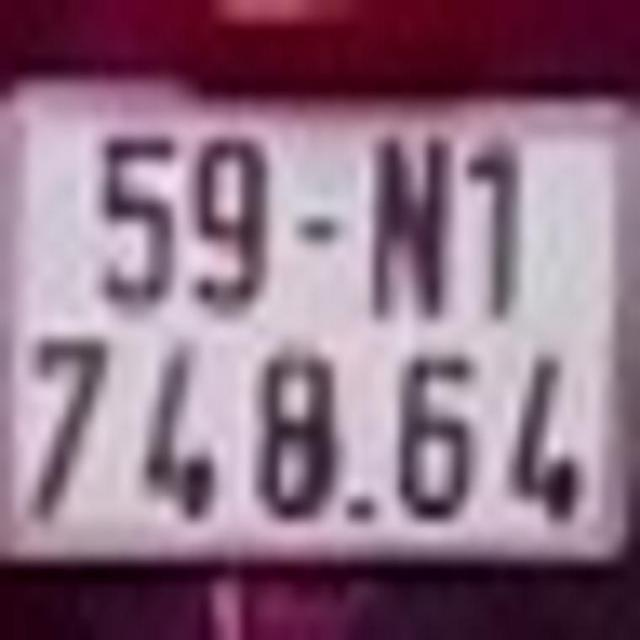1: (465, 124, 523, 319)
4: (138, 333, 226, 518), (503, 345, 588, 522)
5: (99, 130, 180, 309)
6: (391, 341, 481, 520)
7: (21, 330, 108, 516)
8: (254, 333, 340, 518)
9: (191, 130, 275, 309)
N: (364, 124, 456, 316)
